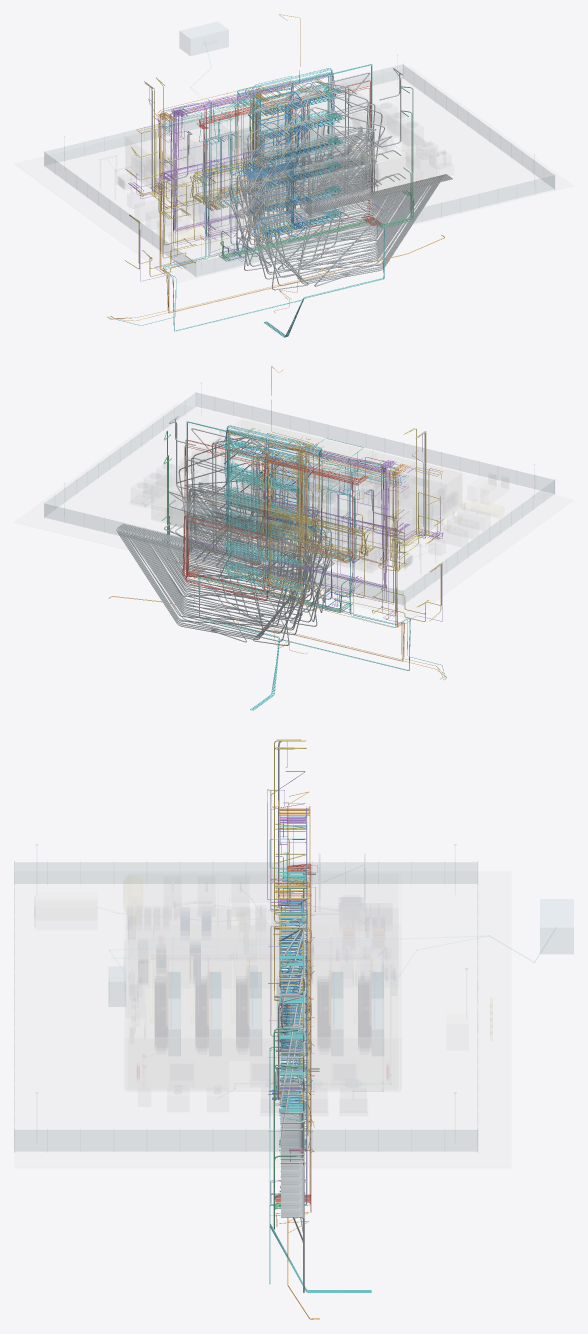
Rendered from hyperscale_campus_hq.glb.
3 renders of one model, top to bottom at view 1: azimuth 30°, elevation 25°; view 2: azimuth 150°, elevation 25°; view 3: azimuth 270°, elevation 25°, orthographic. The views are drawn at different scales.
Visible parts, largest first — view 1: SEC_fence_panel_north, SEC_fence_panel_east, SEC_fence_panel_west, SEC_fence_panel_south_w, DATA_internet_cloud, SEC_fence_panel_south_e, row04_containment_back, row05_containment_back, run_h311_crah__row03_rack12, run_h199_crah__row02_rack12, run_e39_drycooler_b__chiller_c, run_h417_crah__row04_rack11 (+17 smaller); view 2: SEC_fence_panel_north, SEC_fence_panel_south_w, SEC_fence_panel_south_e, SEC_fence_panel_west, SEC_fence_panel_east, row01_containment_back, DATA_internet_cloud, row02_containment_back, run_h311_crah__row03_rack12, run_h417_crah__row04_rack11, run_h223_crah__row02_rack16, run_h199_crah__row02_rack12 (+10 smaller); view 3: SEC_fence_panel_east, SEC_fence_panel_west, DATA_internet_cloud, run_e278_greeter_ws__internet.
Part boxes in pixels (x1,y1,x2,y2): SEC_fence_panel_north: (196,176,554,276); SEC_fence_panel_east: (403,65,554,188); SEC_fence_panel_west: (45,153,195,275); SEC_fence_panel_south_w: (45,113,203,164); DATA_internet_cloud: (180,22,228,55); SEC_fence_panel_south_e: (244,65,402,116); row04_containment_back: (271,143,347,176); row05_containment_back: (286,153,360,186); run_h311_crah__row03_rack12: (237,108,440,279); run_h199_crah__row02_rack12: (247,127,445,285); run_e39_drycooler_b__chiller_c: (221,86,413,257); run_h417_crah__row04_rack11: (243,135,431,265); SEC_fence_panel_north: (196,393,554,493); SEC_fence_panel_south_w: (243,552,402,604); SEC_fence_panel_south_e: (45,504,203,555); SEC_fence_panel_west: (403,480,554,604); SEC_fence_panel_east: (45,393,195,515); row01_containment_back: (201,508,277,542); DATA_internet_cloud: (167,499,215,532); row02_containment_back: (215,498,290,532); run_h311_crah__row03_rack12: (129,464,323,634); run_h417_crah__row04_rack11: (138,486,318,621); run_h223_crah__row02_rack16: (116,523,299,639); run_h199_crah__row02_rack12: (124,483,314,641); SEC_fence_panel_east: (15,1130,477,1150); SEC_fence_panel_west: (15,863,476,883); DATA_internet_cloud: (540,899,573,953); run_e278_greeter_ws__internet: (269,915,371,1291).
Size of the model in its own units: 62 by 48.36 by 49.54.
